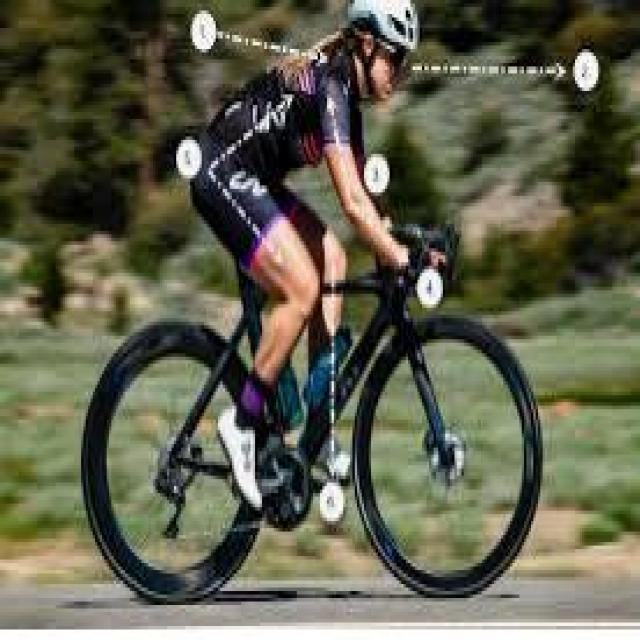bicycle: (89, 186, 543, 620)
